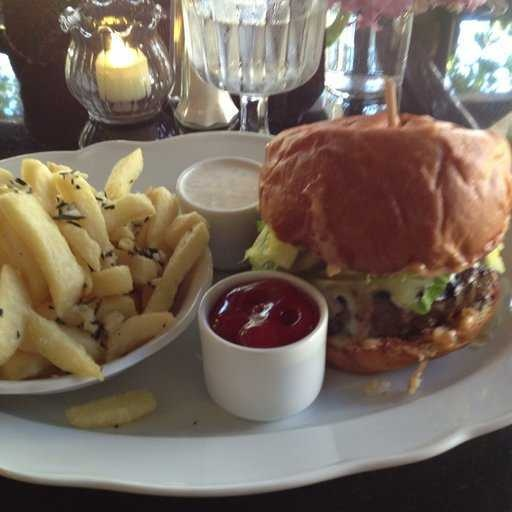hamburger: (236, 111, 512, 360)
